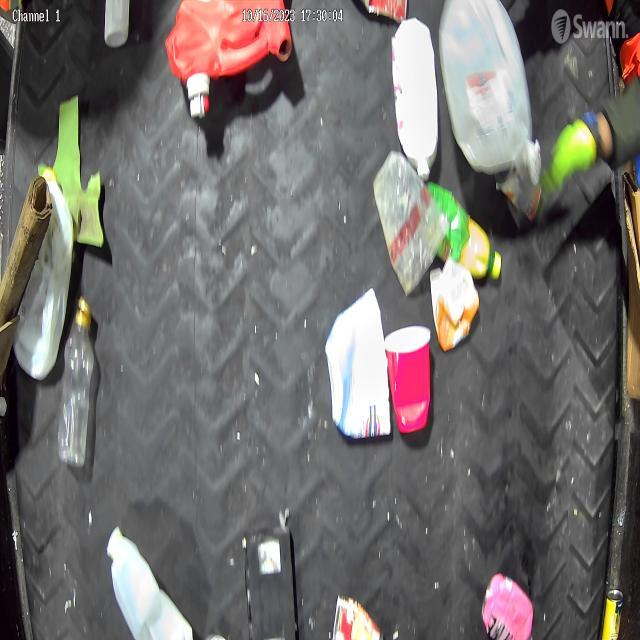milk_jug: (442, 0, 539, 180), (104, 523, 208, 640), (392, 20, 439, 184)
non_white_jug: (162, 0, 296, 118)
plastic_bottle: (62, 296, 96, 488)
